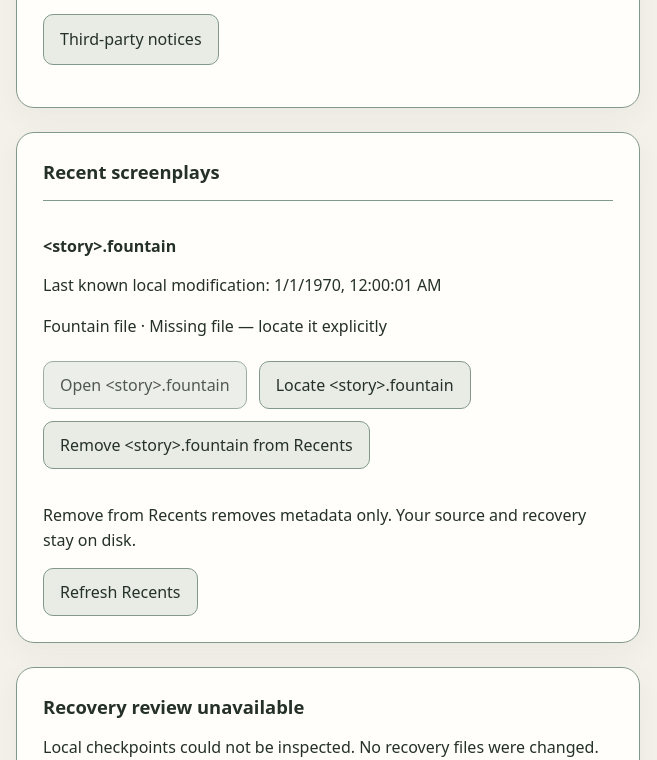
Test case: M4-02 Home (injected native ports) › rejects a mismatched locate entry and retains failed removals
(page scrolled)
Expected: the heading "<story>.fountain" is shown, x1=43 y1=235 x2=176 y2=257
Step 1. Click the button "Locate <story>.fountain" → (365, 385), box x1=259 y1=361 x2=470 y2=409
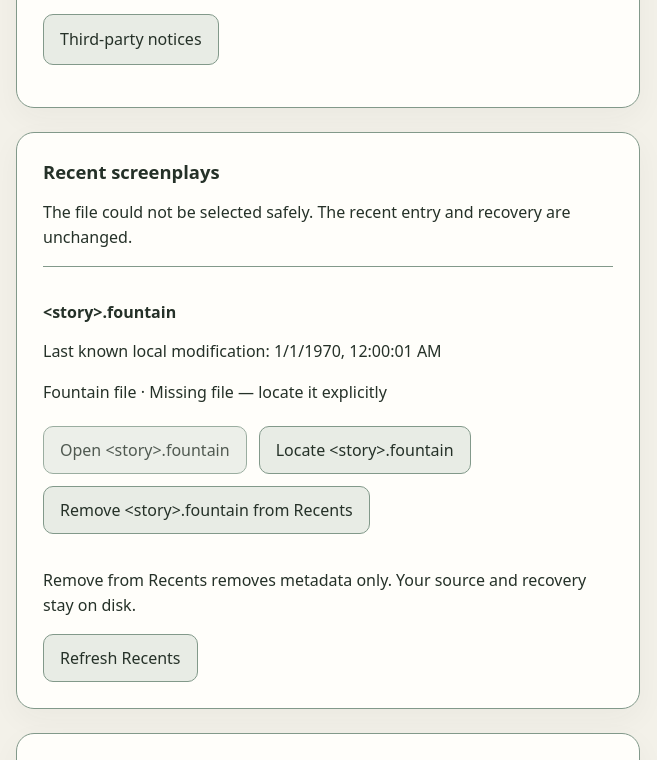
Result: the text "could not be selected safely" is shown at x1=43 y1=201 x2=570 y2=248
Step 2. Click the button "Remove <story>.fountain from Recents" → (206, 510), box x1=43 y1=486 x2=370 y2=534
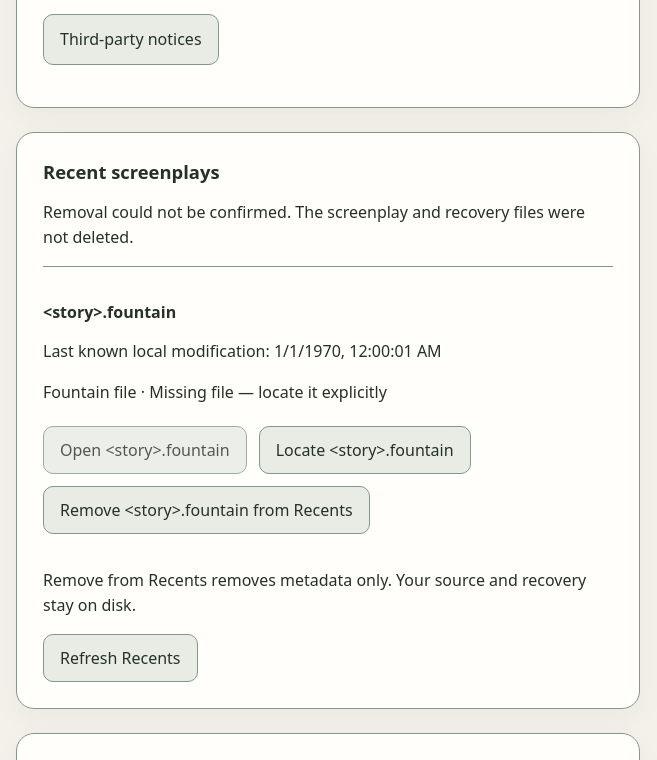
Expected: the heading "<story>.fountain" is shown, x1=43 y1=301 x2=176 y2=323
Result: the text "Removal could not be confirmed" is shown at x1=43 y1=201 x2=585 y2=248
